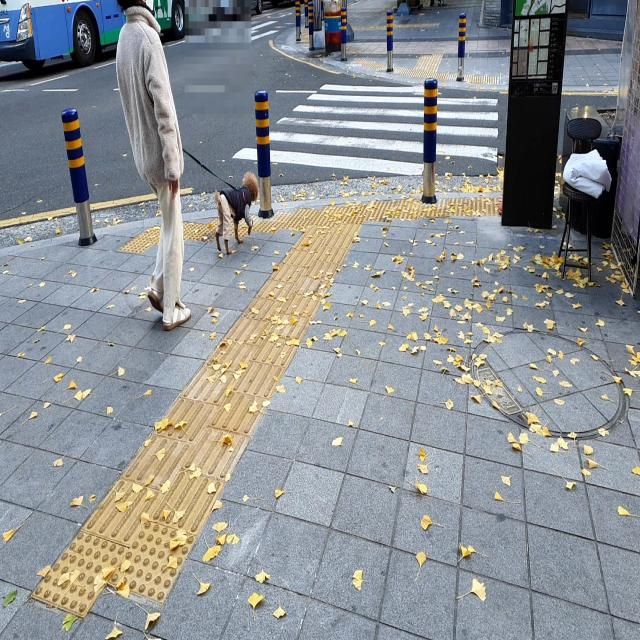Leashed_Dog: (161, 144, 259, 256)
